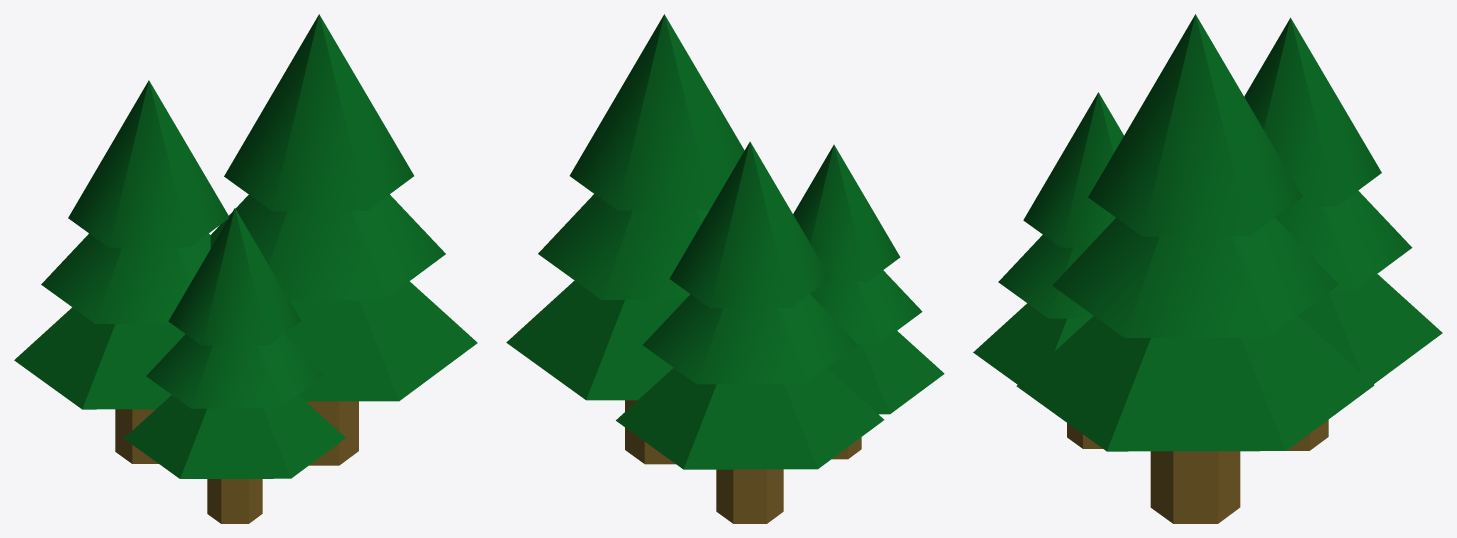
The model's file is Montagne.fbx.
3 views of the same model, side by side, from view 1: azimuth 30°, elevation 25°; view 2: azimuth 150°, elevation 25°; view 3: azimuth 270°, elevation 25° (orthographic). The views are drawn at different scales.
Parts seen in each view (by area): view 1: Cone_2_3, Cone_0_3, Cone_1_3, Cone_2_2, Cone_0, Cone_0_2, Cone_2, Cone_1_2, Cone_1, Cylinder, Cylinder_3, Cylinder_2; view 2: Cone_2_3, Cone_0_2, Cone_2_2, Cone_1_2, Cone_0_3, Cone_1_3, Cone_2, Cone_0, Cone_1, Cylinder_2, Cylinder_3; view 3: Cone_0_3, Cone_2_3, Cone_1_3, Cone_2_2, Cone_0_2, Cone_2, Cone_1_2, Cylinder_3, Cone_0, Cone_1, Cylinder_2.
Boxes of the visible parts, x1=… form: Cone_2_3: x1=224, y1=14, x2=413, y2=211; Cone_0_3: x1=285, y1=281, x2=477, y2=401; Cone_1_3: x1=210, y1=194, x2=445, y2=300; Cone_2_2: x1=68, y1=80, x2=228, y2=247; Cone_0: x1=124, y1=395, x2=345, y2=478; Cone_0_2: x1=14, y1=307, x2=185, y2=409; Cone_2: x1=168, y1=208, x2=301, y2=345; Cone_1_2: x1=41, y1=233, x2=210, y2=323; Cone_1: x1=146, y1=334, x2=323, y2=408; Cylinder: x1=207, y1=479, x2=262, y2=523; Cylinder_3: x1=306, y1=401, x2=358, y2=465; Cylinder_2: x1=115, y1=409, x2=158, y2=463; Cone_2_3: x1=569, y1=14, x2=744, y2=210; Cone_0_2: x1=616, y1=367, x2=884, y2=469; Cone_2_2: x1=669, y1=141, x2=830, y2=308; Cone_1_2: x1=643, y1=294, x2=857, y2=384; Cone_0_3: x1=506, y1=280, x2=684, y2=400; Cone_1_3: x1=538, y1=194, x2=709, y2=299; Cone_2: x1=793, y1=144, x2=900, y2=281; Cone_0: x1=827, y1=331, x2=944, y2=414; Cone_1: x1=810, y1=270, x2=922, y2=344; Cylinder_2: x1=716, y1=469, x2=783, y2=523; Cylinder_3: x1=625, y1=400, x2=675, y2=464; Cone_0_3: x1=1016, y1=315, x2=1374, y2=451; Cone_2_3: x1=1088, y1=14, x2=1302, y2=236; Cone_1_3: x1=1052, y1=218, x2=1338, y2=337; Cone_2_2: x1=1244, y1=17, x2=1381, y2=206; Cone_0_2: x1=1298, y1=274, x2=1442, y2=384; Cone_2: x1=1023, y1=92, x2=1123, y2=247; Cone_1_2: x1=1275, y1=190, x2=1412, y2=292; Cylinder_3: x1=1150, y1=451, x2=1240, y2=523; Cone_0: x1=973, y1=303, x2=1089, y2=384; Cone_1: x1=998, y1=235, x2=1093, y2=318; Cylinder_2: x1=1286, y1=420, x2=1328, y2=450.
Bounding box in the file's own units: 32.82 × 39.27 × 33.88.
